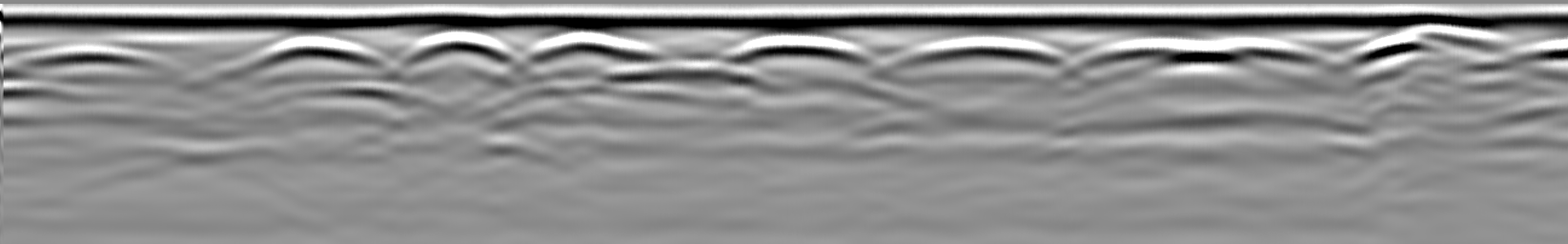steel: (1078, 35, 1314, 82), (1344, 31, 1520, 73), (887, 33, 1069, 72), (227, 35, 392, 78), (8, 43, 184, 81), (719, 32, 881, 71), (522, 31, 664, 74), (394, 32, 521, 78)
